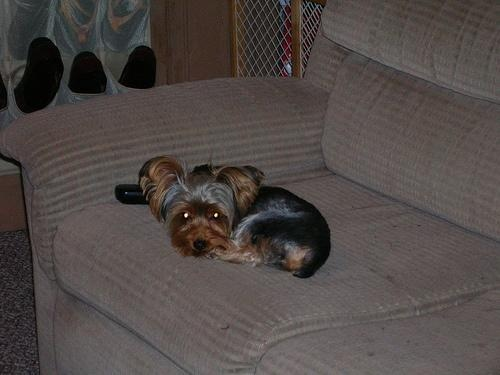dog: (139, 156, 332, 280)
sofa: (1, 1, 500, 375)
